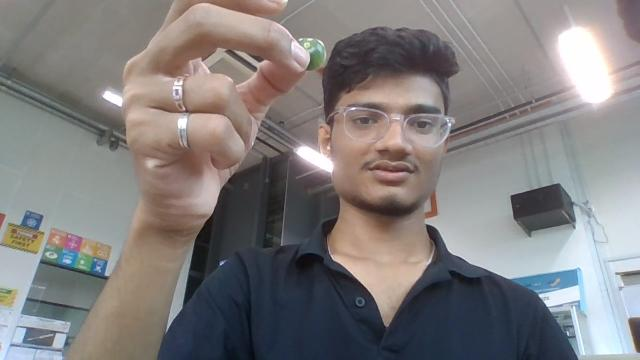Fruit Maturation: (297, 38, 326, 71)
